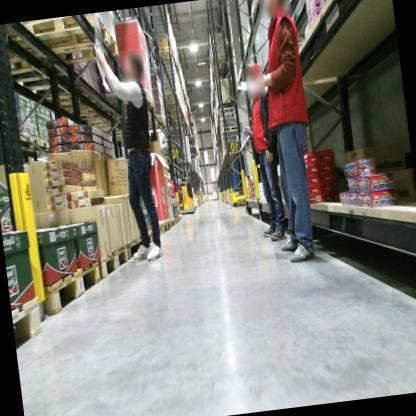pallet: (24, 11, 121, 71), (40, 259, 106, 317), (0, 23, 62, 80), (13, 59, 92, 101), (10, 295, 47, 354), (105, 88, 162, 119), (122, 223, 161, 264), (97, 242, 134, 283), (141, 111, 168, 131), (25, 137, 58, 153), (20, 129, 40, 149), (155, 217, 172, 240), (169, 217, 177, 231), (177, 211, 184, 224), (175, 212, 180, 223)
pallet_truck: (171, 164, 201, 222)
